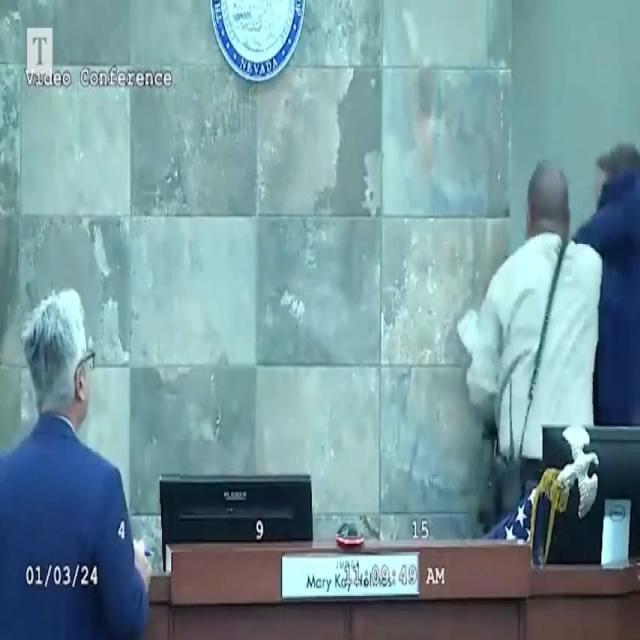fight: (462, 135, 640, 535)
non-fight: (0, 281, 151, 639)
